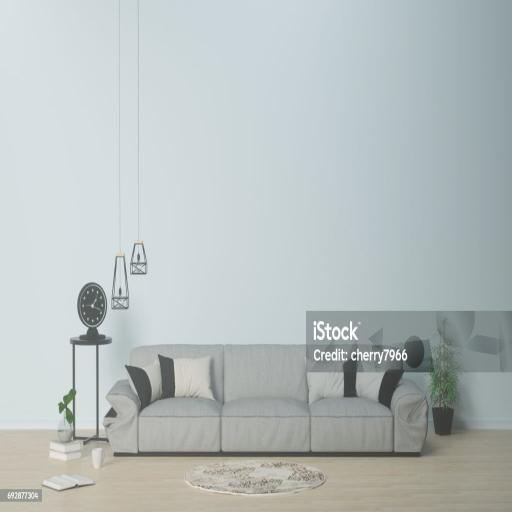back_cushion: (126, 345, 403, 409)
left_arm: (391, 379, 428, 451)
right_arm: (103, 379, 140, 452)
seat_cushion: (138, 398, 394, 452)
stallion-sofa: (104, 342, 428, 454)
